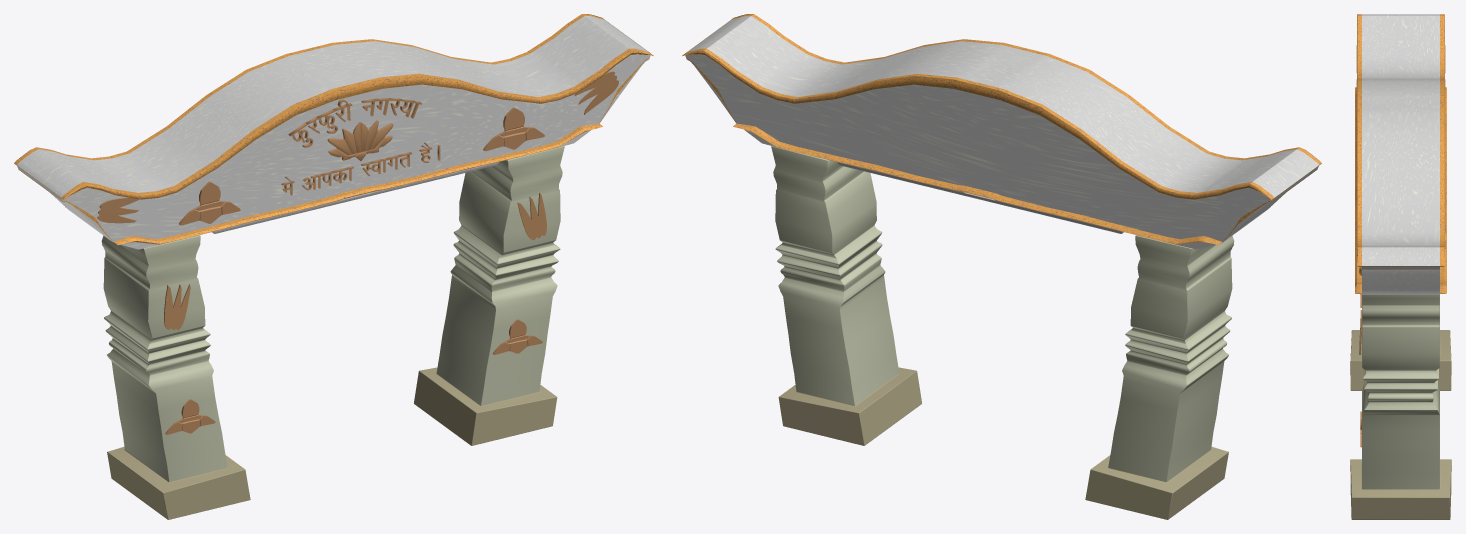
File: village_gate.fbx
The picture shows the model from 3 angles, left to right: view 1: azimuth 30°, elevation 25°; view 2: azimuth 150°, elevation 25°; view 3: azimuth 270°, elevation 25°; orthographic projection. The views are drawn at different scales.
Parts seen in each view (by area): view 1: Cube, Cube.002, Cube.001, Cube.003, Cube.006, Cube.005, Circle.009, Text, Text.001, Circle.001, Circle, Circle.004 (+5 smaller); view 2: Cube, Cube.002, Cube.001, Cube.003, Cube.006, Cube.005; view 3: Cube, Cube.002, Cube.003, Cube.006, Cube.005.
Part boxes in pixels (x1,y1,x2,y2): Cube: [17, 16, 650, 249]; Cube.002: [436, 146, 564, 405]; Cube.001: [101, 235, 227, 481]; Cube.003: [14, 14, 653, 245]; Cube.006: [414, 367, 557, 445]; Cube.005: [107, 447, 250, 519]; Circle.009: [327, 120, 393, 160]; Text: [288, 98, 422, 147]; Text.001: [281, 142, 440, 195]; Circle.001: [483, 107, 544, 151]; Circle: [179, 181, 240, 225]; Circle.004: [164, 284, 190, 330]; Cube: [685, 16, 1318, 249]; Cube.002: [771, 146, 899, 405]; Cube.001: [1108, 235, 1234, 481]; Cube.003: [682, 14, 1321, 245]; Cube.006: [778, 367, 921, 445]; Cube.005: [1085, 447, 1228, 519]; Cube: [1362, 14, 1439, 294]; Cube.002: [1362, 294, 1439, 489]; Cube.003: [1355, 14, 1446, 293]; Cube.006: [1350, 459, 1451, 519]; Cube.005: [1350, 330, 1451, 390].
Bounding box in the file's own units: 1527 × 953 × 260.
Materials: 7 (2 with a texture image).
